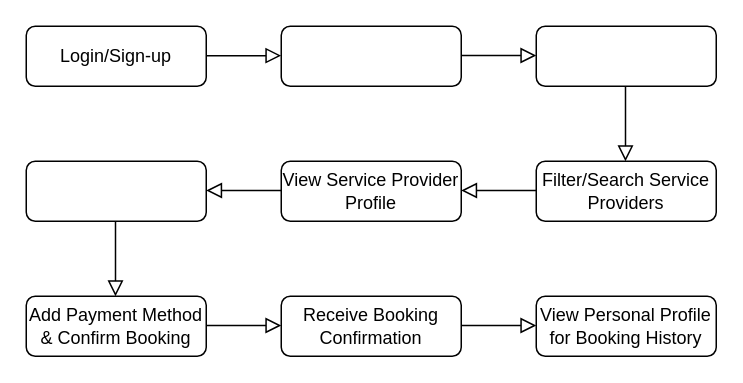
The diagram is 743 pixels wide and 383 high, and some of its shapes have lost their labels. The box of each missing label's shape, as (x1, y1, x2, y2) in pixels:
Select Booking Date & Time: (25, 160, 206, 221)
Select Service Category: (280, 25, 461, 86)
View List of Service Providers: (535, 25, 716, 86)
